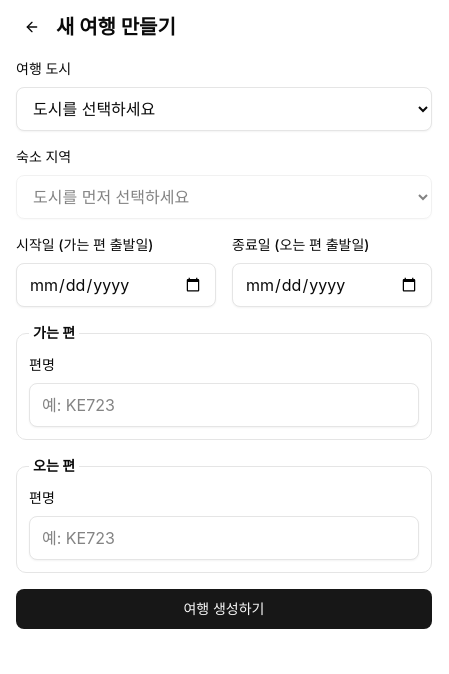
TripCreatePage › validates a bad flight number before submit
Type "k1" into the 1st field labelled "편명" at (224, 405), box x1=29 y1=383 x2=419 y2=427
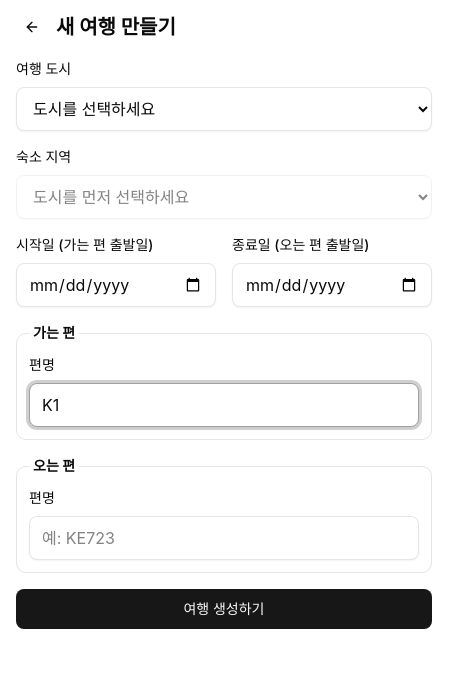
Press Tab
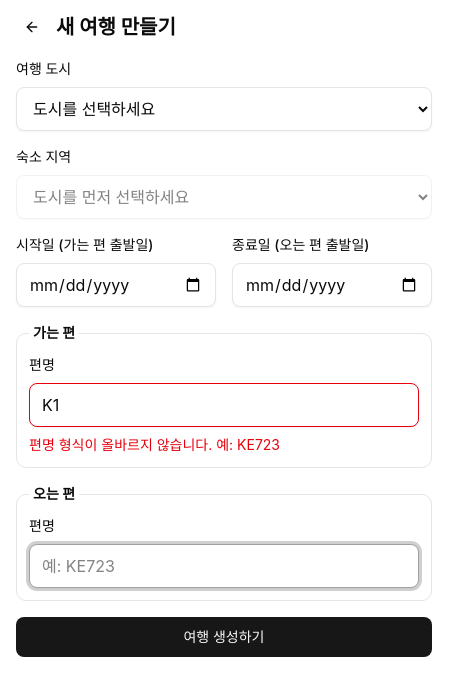
Expected: the text "편명 형식이 올바르지 않습니다. 예: KE723" is shown, x1=29 y1=436 x2=280 y2=453
